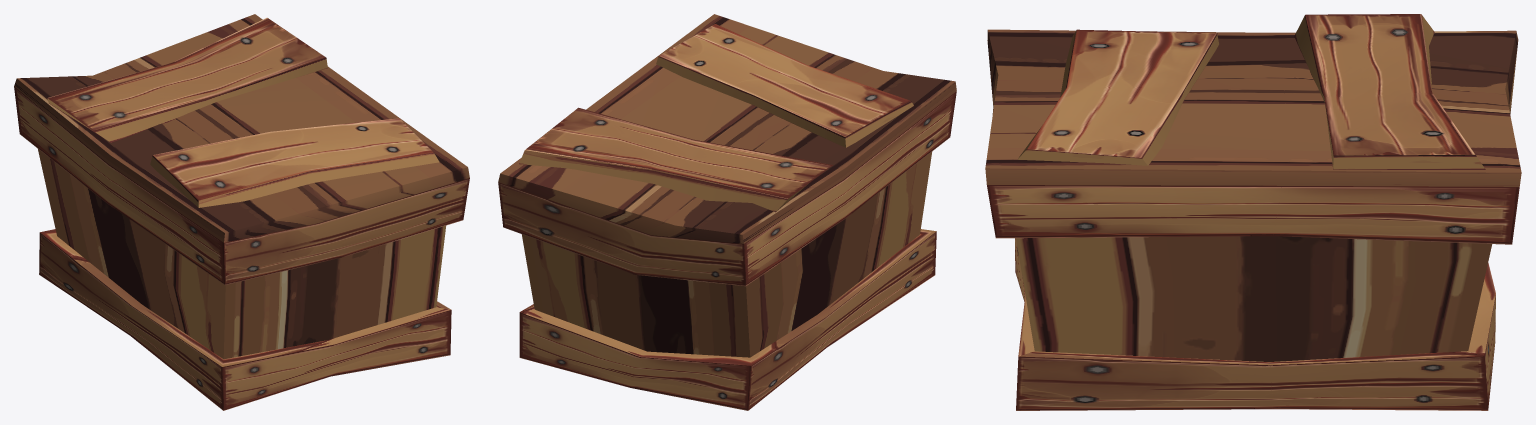
The model's file is SM_PROP_box_05.fbx.
3 views of the same model, side by side, from view 1: azimuth 30°, elevation 25°; view 2: azimuth 150°, elevation 25°; view 3: azimuth 270°, elevation 25° (orthographic). The views are drawn at different scales.
Parts seen in each view (by area): view 1: SM_PROP_box_05; view 2: SM_PROP_box_05; view 3: SM_PROP_box_05.
Part boxes in pixels (left/top/right/bottom): SM_PROP_box_05: left=14, top=14, right=469, bottom=410; SM_PROP_box_05: left=498, top=14, right=956, bottom=410; SM_PROP_box_05: left=985, top=14, right=1521, bottom=410.
Bounding box in the file's own units: 63.37 × 49.49 × 93.57.
